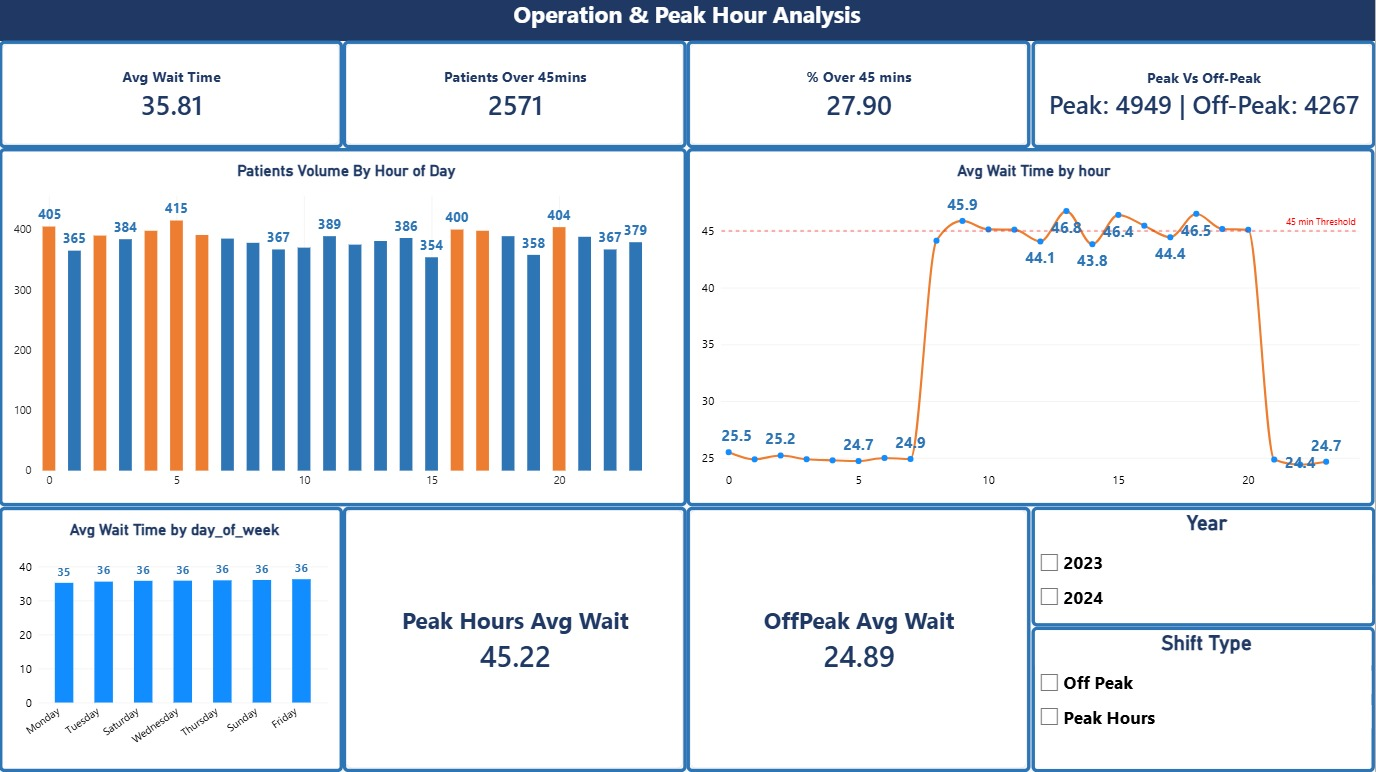

The page's visual inventory and layout, read from the dashboard file:
{"tool":"powerbi","page":{"name":"Operation & Peak Hours","canvas":[1920,1080],"ordinal":1},"visuals":[{"type":"textbox","box":[0,0,1920.4,60],"z":0},{"type":"cardVisual","fields":{"Data":["hospital_er_clean.Avg Wait Time"]},"box":[0,59.3,480,150],"z":1000},{"type":"cardVisual","fields":{"Data":["hospital_er_clean.Patients Over 45mins"]},"box":[480,59.3,480,150],"z":2000},{"type":"cardVisual","fields":{"Data":["hospital_er_clean.% Over 45 mins"]},"box":[960,59.3,480,150],"z":3000},{"type":"cardVisual","fields":{"Data":["hospital_er_clean.Peak Vs OffPeak Patients"]},"box":[1440,60,480,150],"z":4000},{"type":"clusteredColumnChart","title":"Patients Volume By Hour of Day","fields":{"Category":["hospital_er_clean.hour"],"Y":["hospital_er_clean.Total Patients"]},"box":[0,210,960,500],"z":5000},{"type":"lineChart","fields":{"Category":["hospital_er_clean.hour"],"Y":["hospital_er_clean.Avg Wait Time"]},"box":[960,210,960,500],"z":6000},{"type":"clusteredColumnChart","title":"Avg Wait Time by Day of Week","fields":{"Category":["hospital_er_clean.day_of_week"],"Y":["hospital_er_clean.Avg Wait Time"]},"box":[0,709.9,480,370],"z":7000},{"type":"cardVisual","fields":{"Data":["hospital_er_clean.Peak Hours Avg Wait"]},"box":[480,710,480,370],"z":8000},{"type":"cardVisual","fields":{"Data":["hospital_er_clean.OffPeak Avg Wait"]},"box":[960,710,480,370],"z":9000},{"type":"slicer","title":"Year","fields":{"Values":["hospital_er_clean.year"]},"box":[1440.7,709.9,479.7,167.4],"z":10000},{"type":"slicer","title":"Shift Type","fields":{"Values":["hospital_er_clean.Shift Type"]},"box":[1441,877,479,203],"z":11000}]}

Visuals, with their boxes in screenshot pixels (x1, y1, x2, y2), scaled from the page's 1920x1080 canvas onto the 1376x772 screenshot:
textbox: left=0, top=0, right=1375, bottom=43
cardVisual - hospital_er_clean.Avg Wait Time: left=0, top=42, right=344, bottom=150
cardVisual - hospital_er_clean.Patients Over 45mins: left=344, top=42, right=688, bottom=150
cardVisual - hospital_er_clean.% Over 45 mins: left=688, top=42, right=1032, bottom=150
cardVisual - hospital_er_clean.Peak Vs OffPeak Patients: left=1032, top=43, right=1375, bottom=150
"Patients Volume By Hour of Day" clusteredColumnChart: left=0, top=150, right=688, bottom=508
lineChart - hospital_er_clean.hour x hospital_er_clean.Avg Wait Time: left=688, top=150, right=1375, bottom=508
"Avg Wait Time by Day of Week" clusteredColumnChart: left=0, top=507, right=344, bottom=771
cardVisual - hospital_er_clean.Peak Hours Avg Wait: left=344, top=508, right=688, bottom=771
cardVisual - hospital_er_clean.OffPeak Avg Wait: left=688, top=508, right=1032, bottom=771
"Year" slicer: left=1033, top=507, right=1375, bottom=627
"Shift Type" slicer: left=1033, top=627, right=1375, bottom=771
